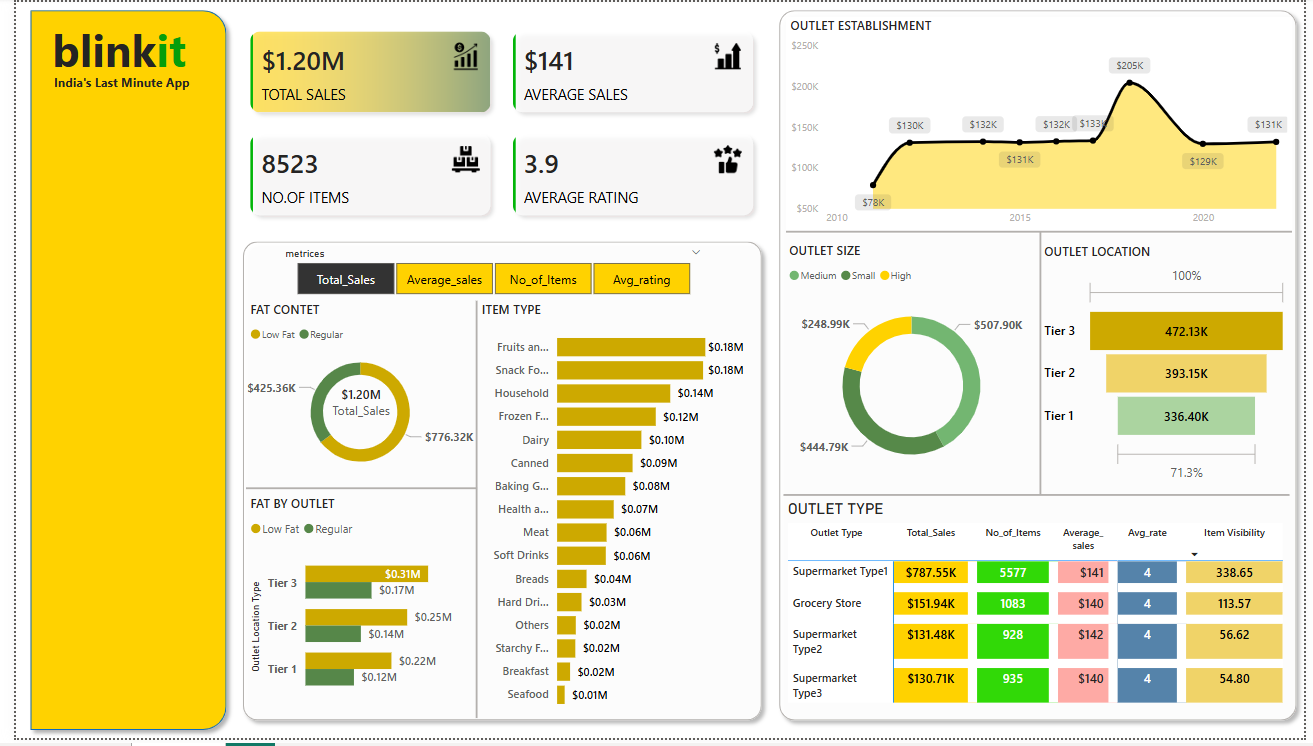

The dashboard page shown, as its layout file describes it:
{"tool":"powerbi","page":{"name":"Page 1","canvas":[1400,800],"ordinal":0},"visuals":[{"type":"shape","box":[6.8,0,231,800.3],"z":0},{"type":"textbox","box":[17.5,13.8,188.8,82.5],"z":1000},{"type":"textbox","box":[0,73.8,230,35],"z":2000},{"type":"cardVisual","fields":{"Data":["BlinkIT Grocery Data.Total_Sales","BlinkIT Grocery Data.Average_sales","BlinkIT Grocery Data.No_of_Items","BlinkIT Grocery Data.Avg_rating"]},"box":[238.3,15,581.7,235],"z":3000},{"type":"shape","box":[238.3,251.7,581.7,538.3],"z":4000},{"type":"donutChart","title":"FAT CONTET","fields":{"Y":["BlinkIT Grocery Data.Total_Sales"],"Category":["BlinkIT Grocery Data.Item Fat Content"]},"box":[250,324.7,248.6,197],"z":5000},{"type":"slicer","fields":{"Values":["metrices.metrices"]},"box":[279.9,262.2,476.9,62.5],"z":6000},{"type":"cardVisual","fields":{"Data":["BlinkIT Grocery Data.Total_Sales"]},"box":[315,400,120,70],"z":7000},{"type":"clusteredBarChart","title":"FAT BY OUTLET","fields":{"Y":["BlinkIT Grocery Data.Total_Sales"],"Category":["BlinkIT Grocery Data.Outlet Location Type"],"Series":["BlinkIT Grocery Data.Item Fat Content"]},"box":[250,535.3,248.6,233.7],"z":8000},{"type":"shape","box":[250,521.7,251.4,13.6],"z":9000},{"type":"shape","box":[481,324.7,39.4,453.8],"z":10000},{"type":"barChart","title":"ITEM TYPE","fields":{"Y":["BlinkIT Grocery Data.Total_Sales"],"Category":["BlinkIT Grocery Data.Item Type"]},"box":[501.4,324.7,294.8,453.8],"z":11000},{"type":"shape","box":[820,0,580,790],"z":12000},{"type":"lineChart","title":"OUTLET ESTABLISHMENT","fields":{"Category":["BlinkIT Grocery Data.Outlet Establishment Year"],"Y":["BlinkIT Grocery Data.Total_Sales"]},"box":[837.1,15.7,550,235.7],"z":13000},{"type":"shape","box":[837.1,228.6,550,42.9],"z":14000},{"type":"donutChart","title":"OUTLET SIZE","fields":{"Y":["BlinkIT Grocery Data.Total_Sales"],"Category":["BlinkIT Grocery Data.Outlet Size"]},"box":[835.7,261.4,275.7,267.1],"z":15000},{"type":"shape","box":[987.1,250,251.4,285.7],"z":16000},{"type":"funnel","title":"OUTLET LOCATION","fields":{"Y":["Sum(BlinkIT Grocery Data.Sales)"],"Category":["BlinkIT Grocery Data.Outlet Location Type"]},"box":[1112.9,262.9,274.3,265.7],"z":17000},{"type":"shape","box":[834.3,525.7,550,20],"z":18000},{"type":"pivotTable","title":"OUTLET TYPE","fields":{"Rows":["BlinkIT Grocery Data.Outlet Type"],"Values":["BlinkIT Grocery Data.Total_Sales","BlinkIT Grocery Data.No_of_Items","BlinkIT Grocery Data.Average_sales","BlinkIT Grocery Data.Avg_rating","Sum(BlinkIT Grocery Data.Item Visibility)"]},"box":[834.3,541.4,565.7,237.1],"z":19000}]}

Visuals, with their boxes in screenshot pixels (x1, y1, x2, y2), scaled from the page's 1400x800 canvas onto the 1313x746 screenshot:
shape: pyautogui.locateOnScreen(6, 0, 223, 745)
textbox: pyautogui.locateOnScreen(16, 13, 193, 90)
textbox: pyautogui.locateOnScreen(0, 69, 216, 101)
cardVisual - BlinkIT Grocery Data.Total_Sales x BlinkIT Grocery Data.Average_sales: pyautogui.locateOnScreen(223, 14, 769, 233)
shape: pyautogui.locateOnScreen(223, 235, 769, 737)
"FAT CONTET" donutChart: pyautogui.locateOnScreen(234, 303, 468, 486)
slicer - metrices.metrices: pyautogui.locateOnScreen(263, 245, 710, 303)
cardVisual - BlinkIT Grocery Data.Total_Sales: pyautogui.locateOnScreen(295, 373, 408, 438)
"FAT BY OUTLET" clusteredBarChart: pyautogui.locateOnScreen(234, 499, 468, 717)
shape: pyautogui.locateOnScreen(234, 486, 470, 499)
shape: pyautogui.locateOnScreen(451, 303, 488, 726)
"ITEM TYPE" barChart: pyautogui.locateOnScreen(470, 303, 747, 726)
shape: pyautogui.locateOnScreen(769, 0, 1312, 737)
"OUTLET ESTABLISHMENT" lineChart: pyautogui.locateOnScreen(785, 15, 1301, 234)
shape: pyautogui.locateOnScreen(785, 213, 1301, 253)
"OUTLET SIZE" donutChart: pyautogui.locateOnScreen(784, 244, 1042, 493)
shape: pyautogui.locateOnScreen(926, 233, 1162, 500)
"OUTLET LOCATION" funnel: pyautogui.locateOnScreen(1044, 245, 1301, 493)
shape: pyautogui.locateOnScreen(782, 490, 1298, 509)
"OUTLET TYPE" pivotTable: pyautogui.locateOnScreen(782, 505, 1312, 726)
